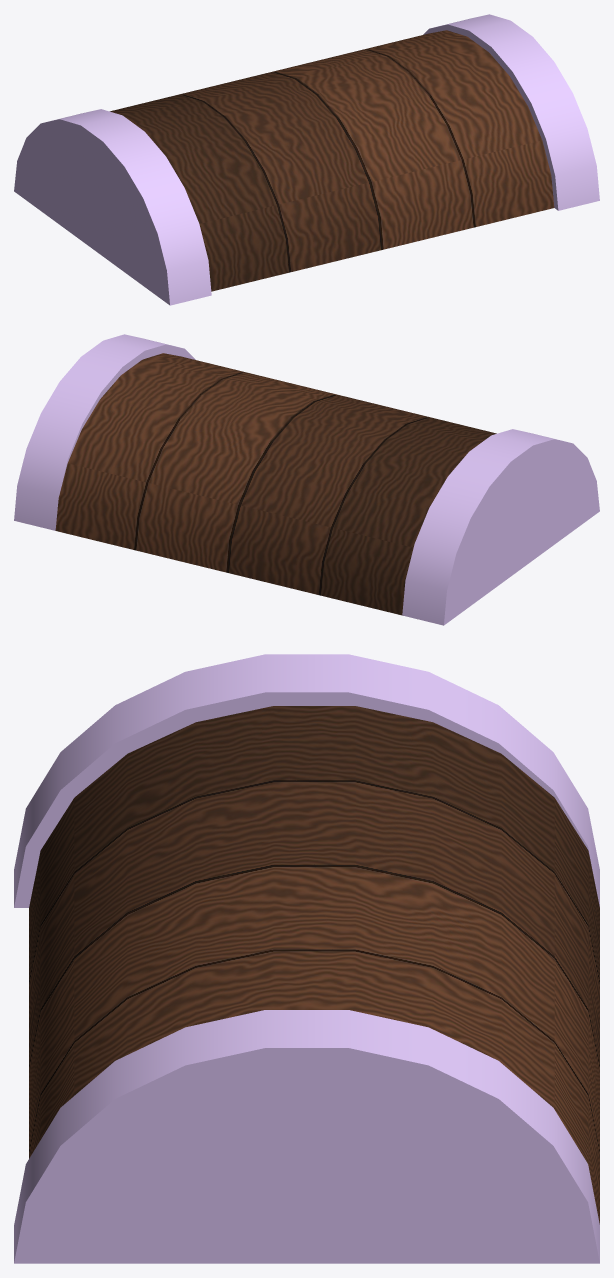
Rendered from dun_lid_lilac.glb.
The picture shows the model from 3 angles, top to bottom: view 1: azimuth 30°, elevation 25°; view 2: azimuth 150°, elevation 25°; view 3: azimuth 270°, elevation 25°; orthographic projection. The views are drawn at different scales.
Visible parts, largest first — view 1: dun_lid_lilac_dwood_0, dun_lid_lilac_satin_lilac_0; view 2: dun_lid_lilac_dwood_0, dun_lid_lilac_satin_lilac_0; view 3: dun_lid_lilac_dwood_0, dun_lid_lilac_satin_lilac_0.
Part boxes in pixels (box(x1,y1,x2,y2)): dun_lid_lilac_dwood_0: box(110, 30, 554, 291); dun_lid_lilac_satin_lilac_0: box(14, 14, 599, 305); dun_lid_lilac_dwood_0: box(55, 353, 496, 615); dun_lid_lilac_satin_lilac_0: box(14, 334, 599, 625); dun_lid_lilac_dwood_0: box(29, 706, 599, 1224); dun_lid_lilac_satin_lilac_0: box(14, 654, 599, 1263).
Bounding box in the file's own units: 1.24 × 0.3167 × 0.78.
Materials: 2 (1 with a texture image).
